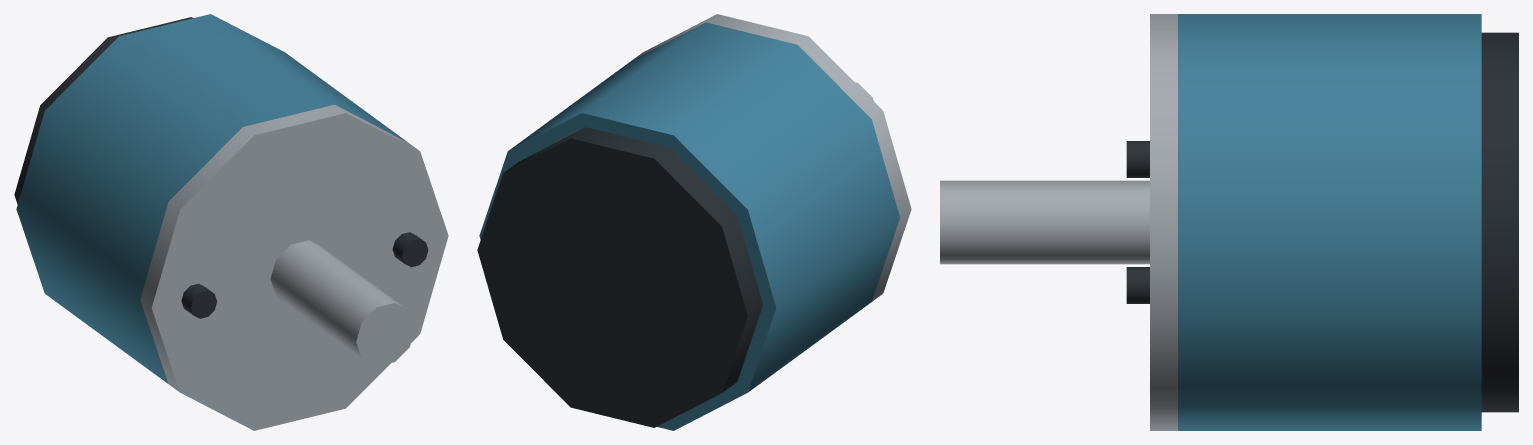
3 views of the same model, side by side, from view 1: azimuth 30°, elevation 25°; view 2: azimuth 150°, elevation 25°; view 3: azimuth 270°, elevation 25° (orthographic). The views are drawn at different scales.
Parts seen in each view (by area): view 1: flange, body, shaft, rear, bolt1, bolt0; view 2: rear, body, flange; view 3: body, shaft, rear, flange, bolt0, bolt1.
Part boxes in pixels (<box>): flange: <box>140,104,448,430</box>; body: <box>16,14,406,383</box>; shaft: <box>270,240,415,366</box>; rear: <box>14,17,193,204</box>; bolt1: <box>392,232,428,267</box>; bolt0: <box>181,283,217,318</box>; rear: <box>477,127,762,427</box>; body: <box>479,22,899,430</box>; flange: <box>633,14,911,301</box>; body: <box>1178,14,1481,430</box>; shaft: <box>940,180,1149,264</box>; rear: <box>1481,32,1518,412</box>; flange: <box>1150,14,1177,430</box>; bolt0: <box>1126,141,1149,177</box>; bolt1: <box>1126,267,1149,303</box>.
Size of the model in its own units: 0.09 by 0.0856 by 0.124.
